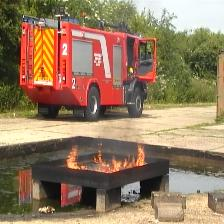fire: (66, 145, 147, 175)
